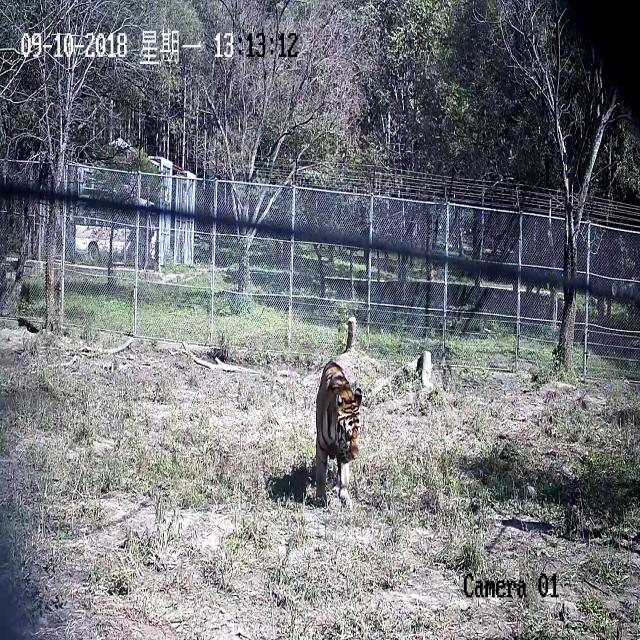Tiger: (302, 335, 390, 548)
